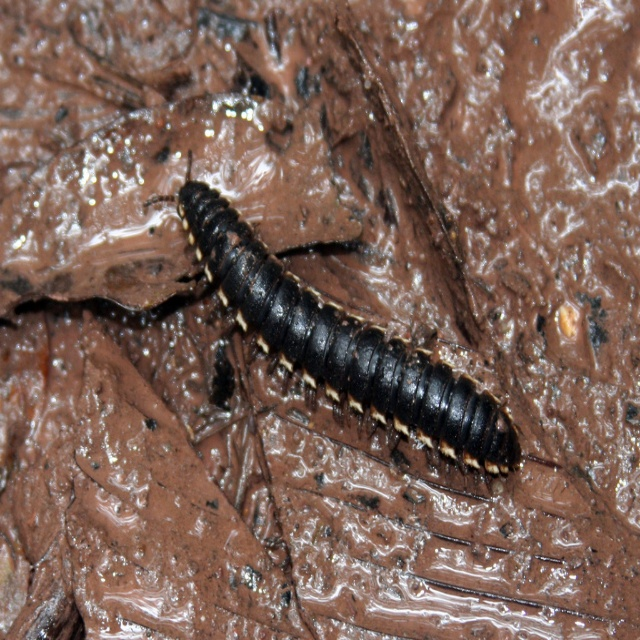Centipede: (143, 149, 563, 498)
